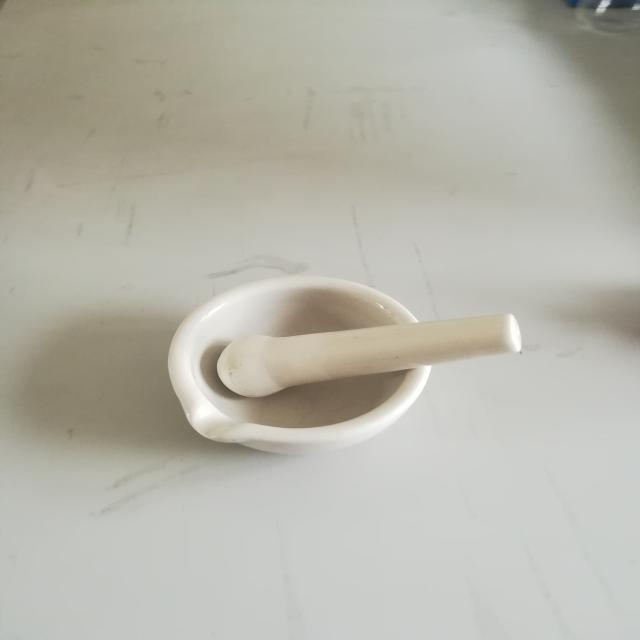Porcelain_Mortar Pestle: (147, 244, 564, 494)
